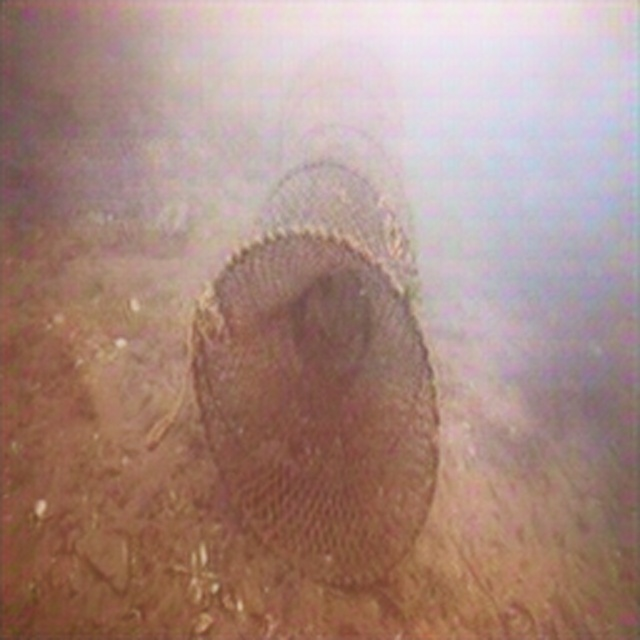mine: (189, 38, 441, 593)
